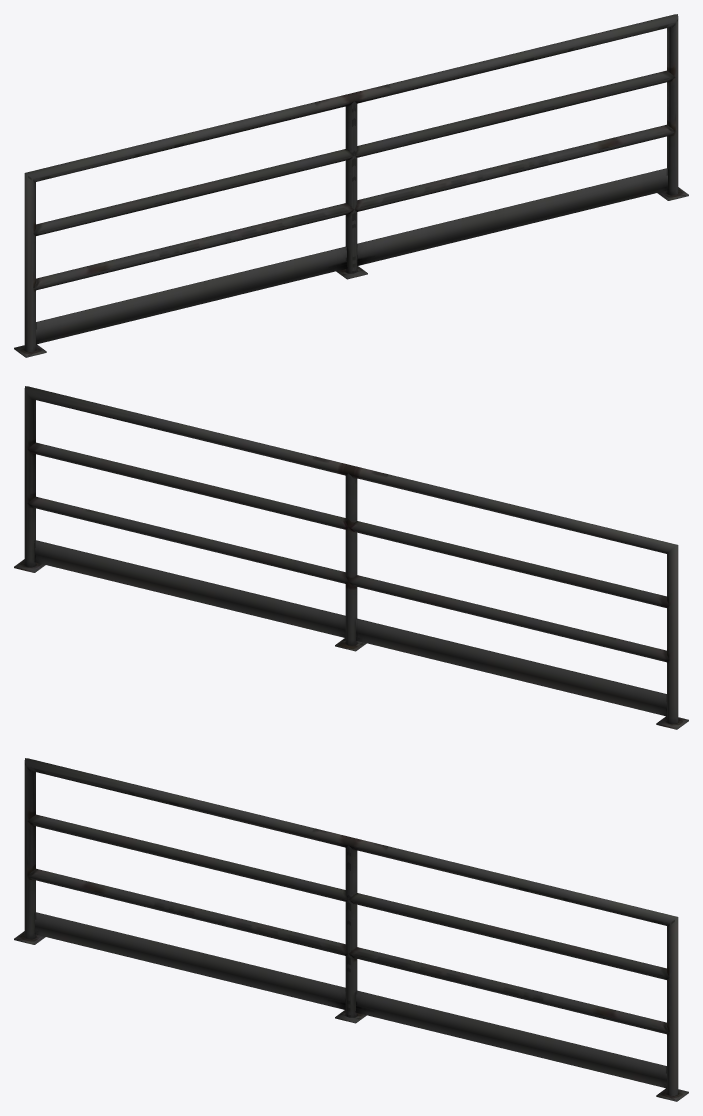
3 views of the same model, one above another, from view 1: azimuth 30°, elevation 25°; view 2: azimuth 150°, elevation 25°; view 3: azimuth 330°, elevation 25° (orthographic).
Parts seen in each view (by area): view 1: body0_model0_lod0_mesh0; view 2: body0_model0_lod0_mesh0; view 3: body0_model0_lod0_mesh0.
Boxes of the visible parts, <box> form: body0_model0_lod0_mesh0: <box>14,14,688,357</box>; body0_model0_lod0_mesh0: <box>14,386,688,729</box>; body0_model0_lod0_mesh0: <box>14,758,688,1101</box>.
Size of the model in its own units: 128 by 33 by 4.
1 material, 1 textured.
